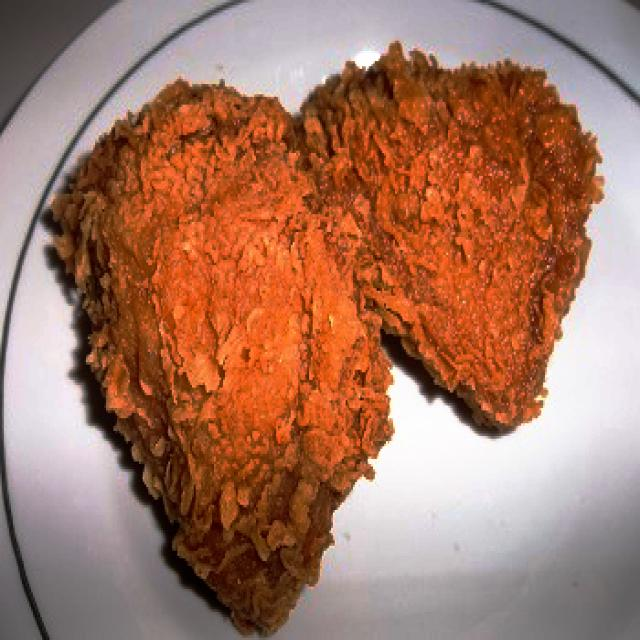fried_chicken: (42, 79, 393, 637), (289, 48, 607, 436)
